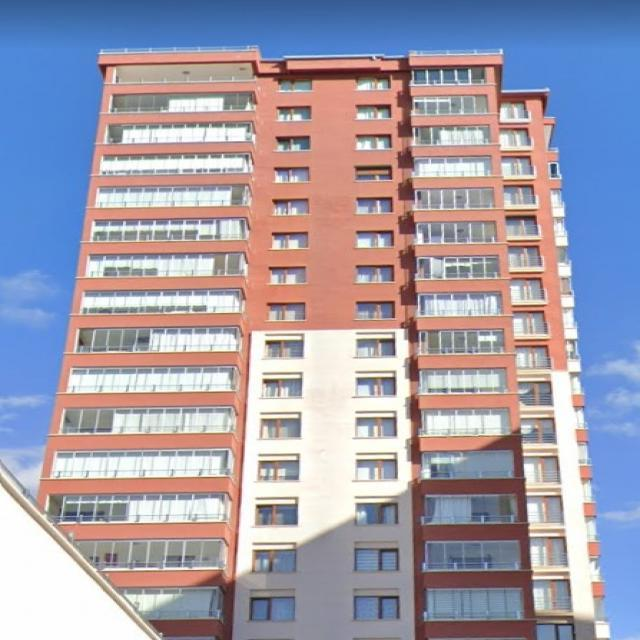Building: (38, 47, 611, 640)
